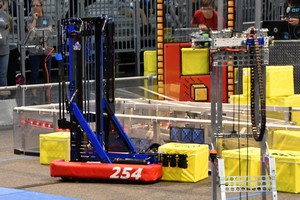cube: (162, 143, 208, 181), (241, 65, 295, 97), (147, 50, 208, 77), (226, 147, 265, 186), (265, 148, 300, 191), (39, 131, 75, 164)
